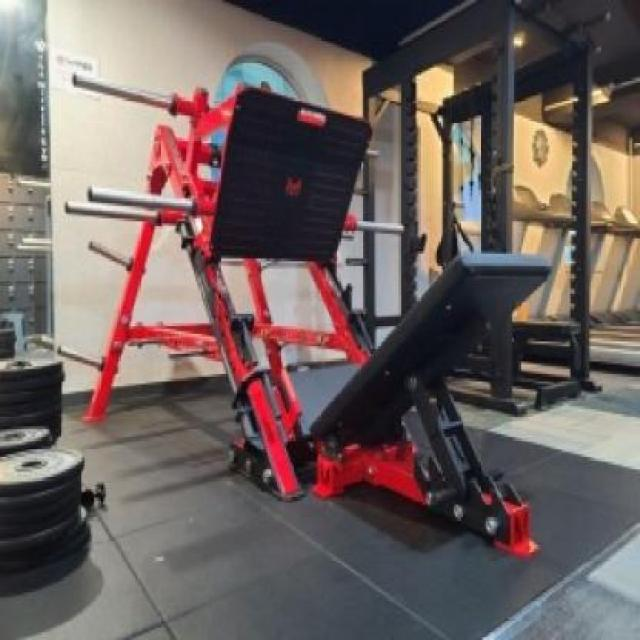leg press: (52, 60, 556, 577)
